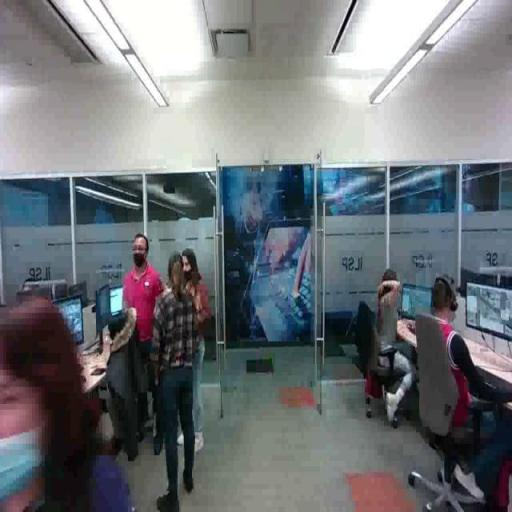person: (413, 275, 512, 512), (155, 252, 197, 512), (121, 235, 164, 455), (173, 251, 213, 455), (376, 267, 418, 428)
